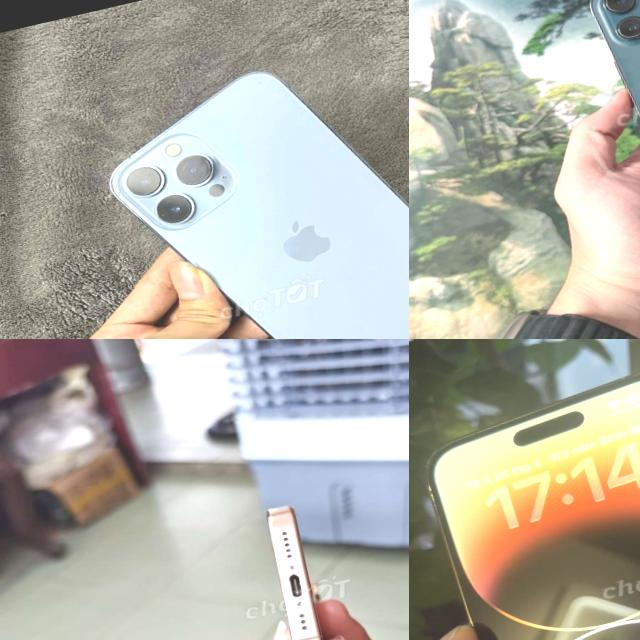gen_12_13: (84, 21, 409, 339)
gen_14: (409, 346, 640, 640)
gen_16: (266, 505, 322, 640)
